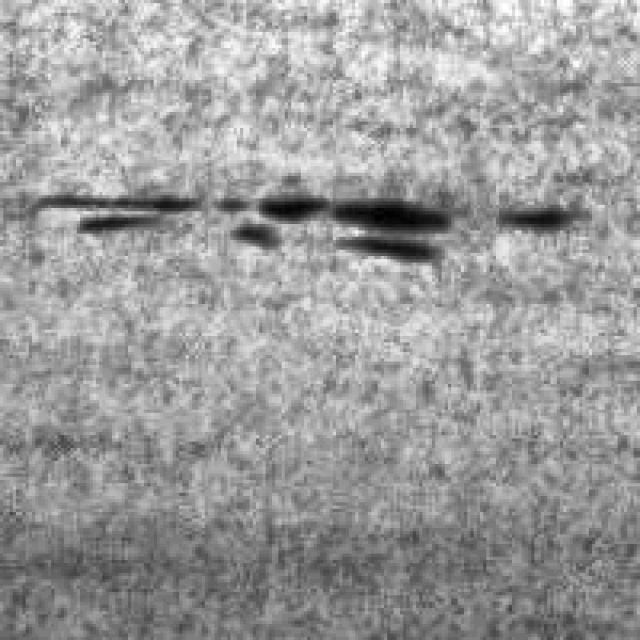Patches: (26, 175, 467, 262), (480, 192, 582, 237)
